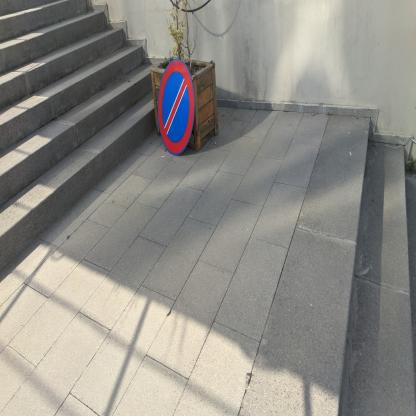No Waiting: (159, 60, 196, 157)
